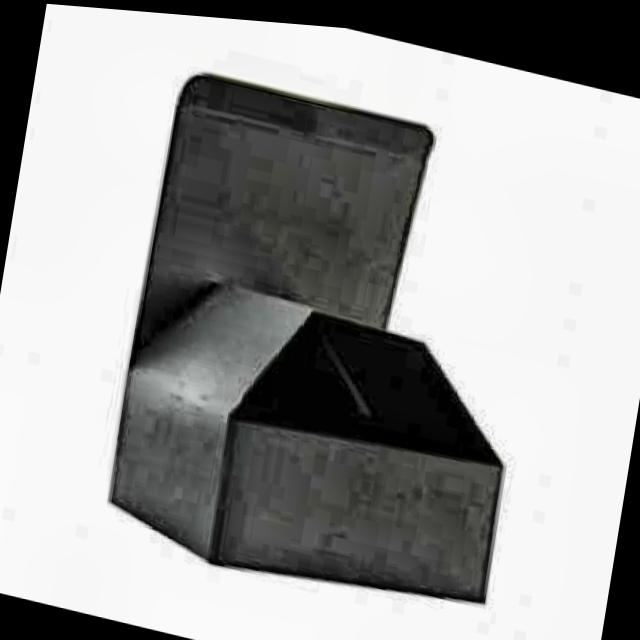Cardbox: (88, 266, 532, 624), (140, 53, 443, 328)
